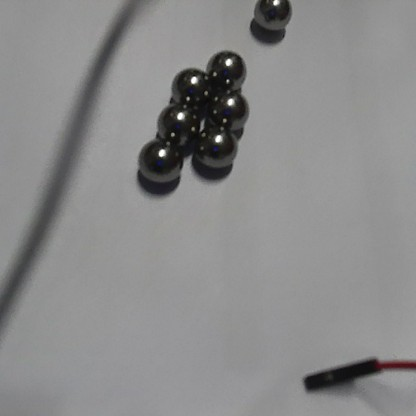ironball: (131, 133, 184, 187), (202, 44, 250, 90), (194, 124, 239, 171), (154, 105, 202, 146), (169, 65, 212, 107), (206, 91, 251, 131), (248, 0, 296, 32)
